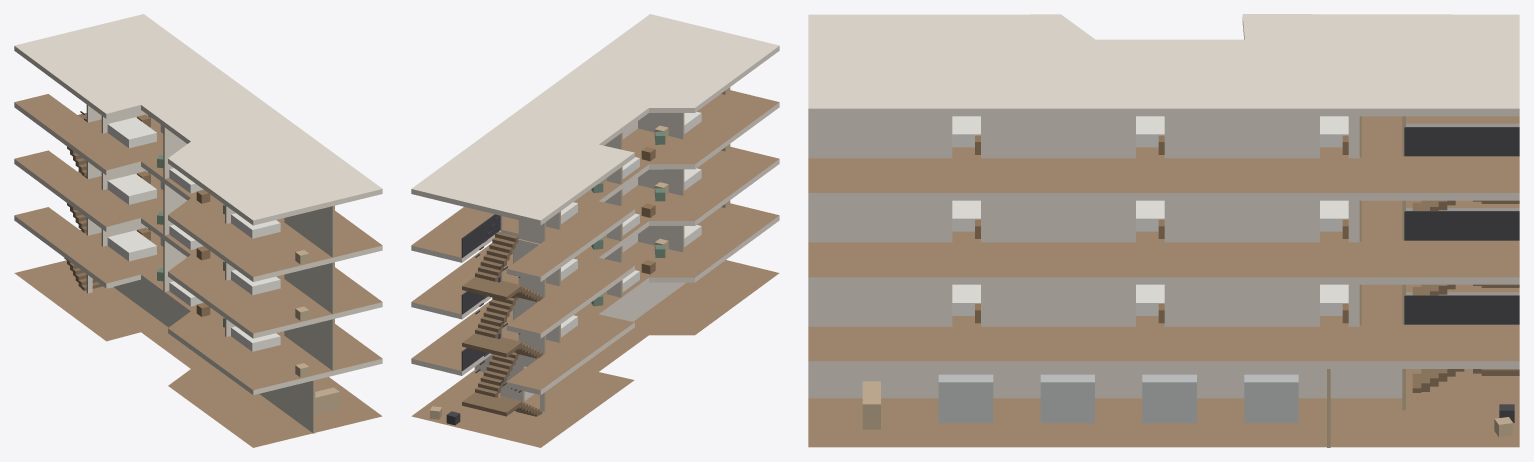
Rendered from interior.glb.
3 views of the same model, side by side, from view 1: azimuth 30°, elevation 25°; view 2: azimuth 150°, elevation 25°; view 3: azimuth 270°, elevation 25° (orthographic). The views are drawn at different scales.
Parts seen in each view (by area): view 1: slabs, partitions, coarse-s2, coarse-s1, coarse-s3, stair, coarse-s0; view 2: slabs, partitions, stair, coarse-s2, coarse-s3, coarse-s1; view 3: slabs, partitions, stair, coarse-s0, coarse-s1, coarse-s2, coarse-s3.
Part boxes in pixels (x1,y1,x2,y2): slabs: (14,14,382,447); partitions: (86,105,334,433); coarse-s2: (107,171,309,320); coarse-s1: (107,227,309,377); coarse-s3: (107,114,309,264); stair: (64,111,102,290); coarse-s0: (315,387,339,414); slabs: (411,14,779,447); partitions: (474,113,685,411); stair: (461,214,542,416); coarse-s2: (561,144,730,280); coarse-s3: (561,87,730,224); coarse-s1: (561,200,730,337); slabs: (808,14,1519,447); partitions: (808,116,1405,447); stair: (1404,127,1519,392); coarse-s0: (862,374,1514,437); coarse-s1: (952,284,1348,323); coarse-s2: (952,200,1348,238); coarse-s3: (952,116,1348,154).
Size of the model in its own units: 7.05 by 11.76 by 22.36.
